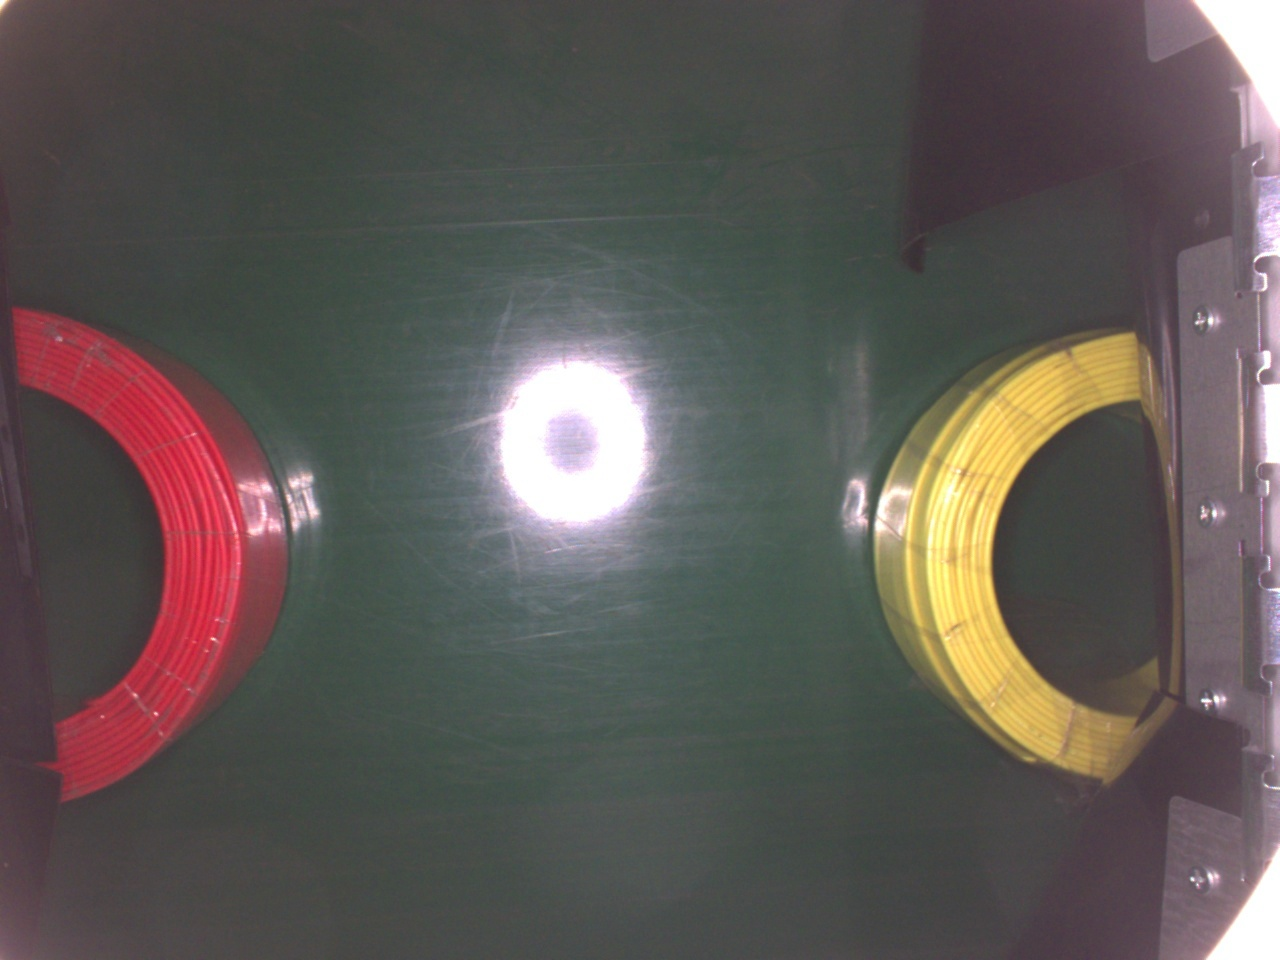red: (10, 296, 292, 813)
yellow: (870, 327, 1145, 778)
